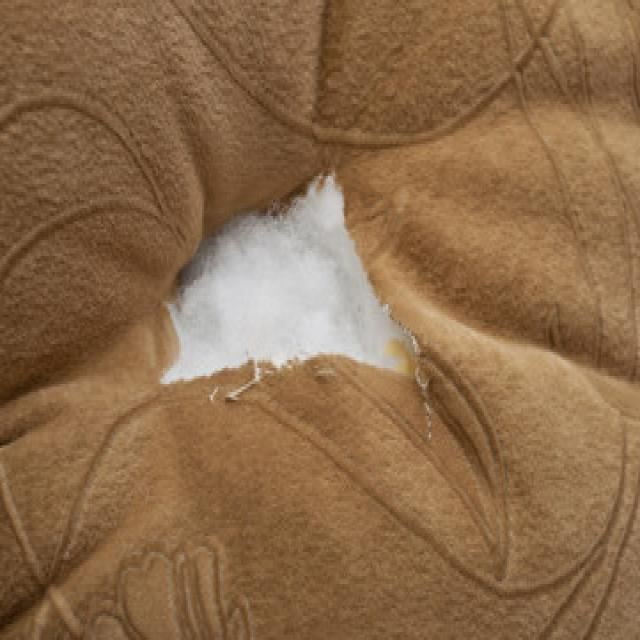Hole: (163, 176, 411, 383)
